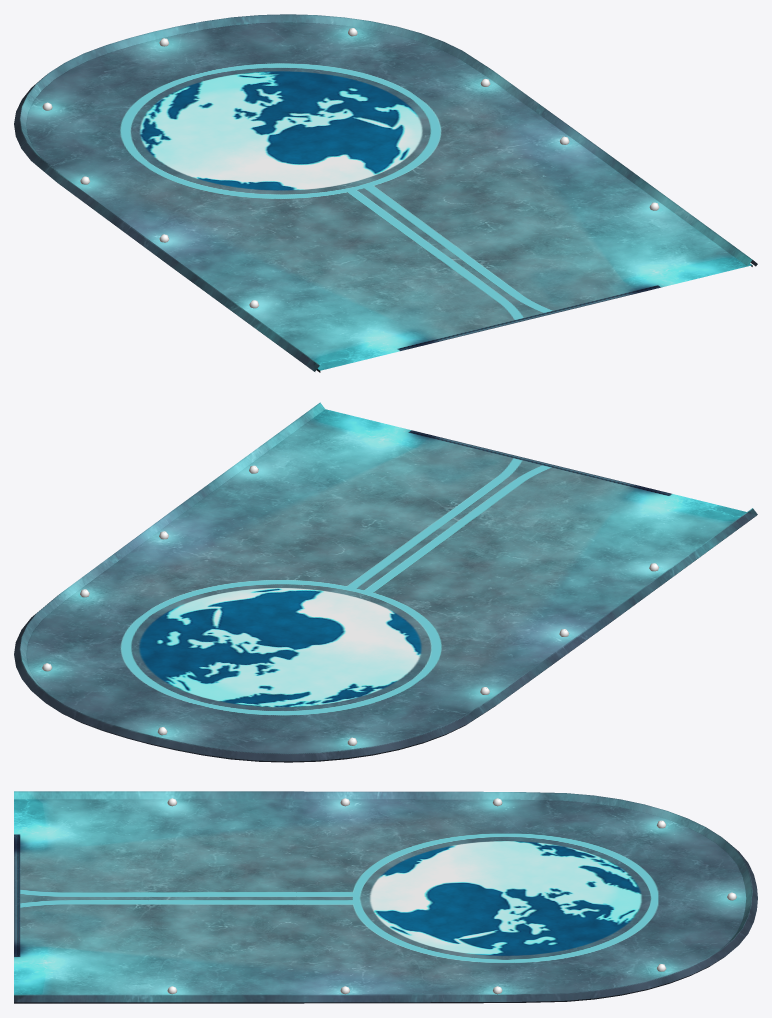
The model's file is wams_balcony.glb.
The picture shows the model from 3 angles, top to bottom: view 1: azimuth 30°, elevation 25°; view 2: azimuth 150°, elevation 25°; view 3: azimuth 270°, elevation 25°; orthographic projection. The views are drawn at different scales.
Parts seen in each view (by area): view 1: balcony; view 2: balcony; view 3: balcony.
Boxes of the visible parts, x1,y1,x2,y2 form: balcony: (14, 14, 757, 372); balcony: (14, 402, 757, 762); balcony: (14, 791, 757, 1003).
Size of the model in its own units: 7.95 by 0.1623 by 12.02.
Materials: 1 (1 with a texture image).
